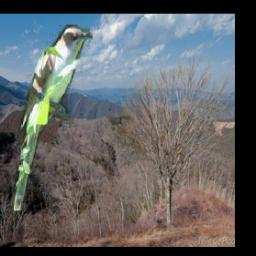Cuckoo: (12, 25, 93, 210)
